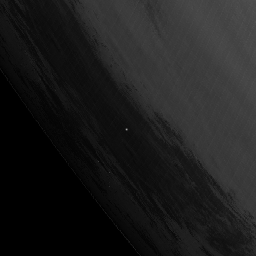Target: (124, 127, 130, 132)
